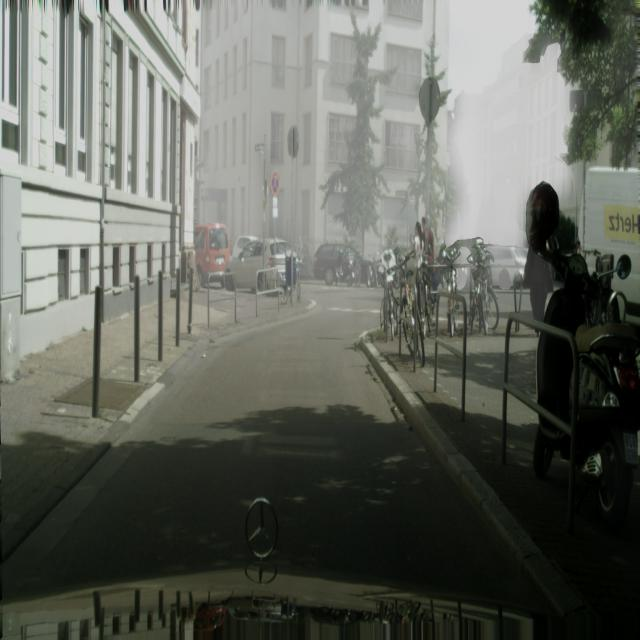bus: (523, 183, 588, 474)
car: (582, 166, 640, 329)
motorcycle: (531, 241, 640, 529)
person: (224, 235, 301, 293), (193, 222, 231, 289), (313, 242, 361, 287), (483, 245, 525, 289)
truck: (402, 253, 426, 369), (468, 263, 499, 336), (379, 254, 398, 342)
